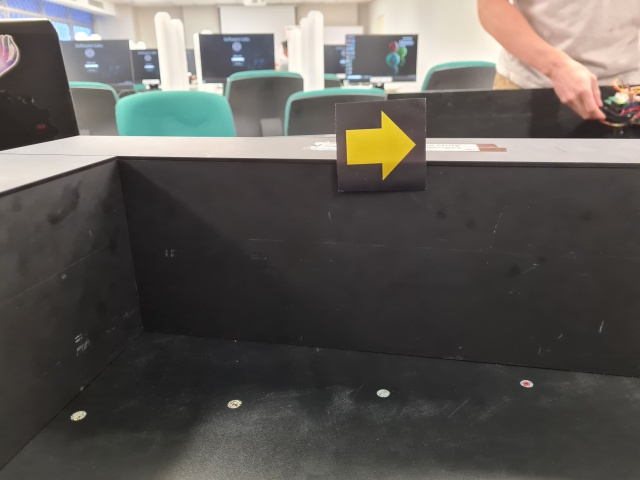right_arrow: (335, 97, 427, 193)
